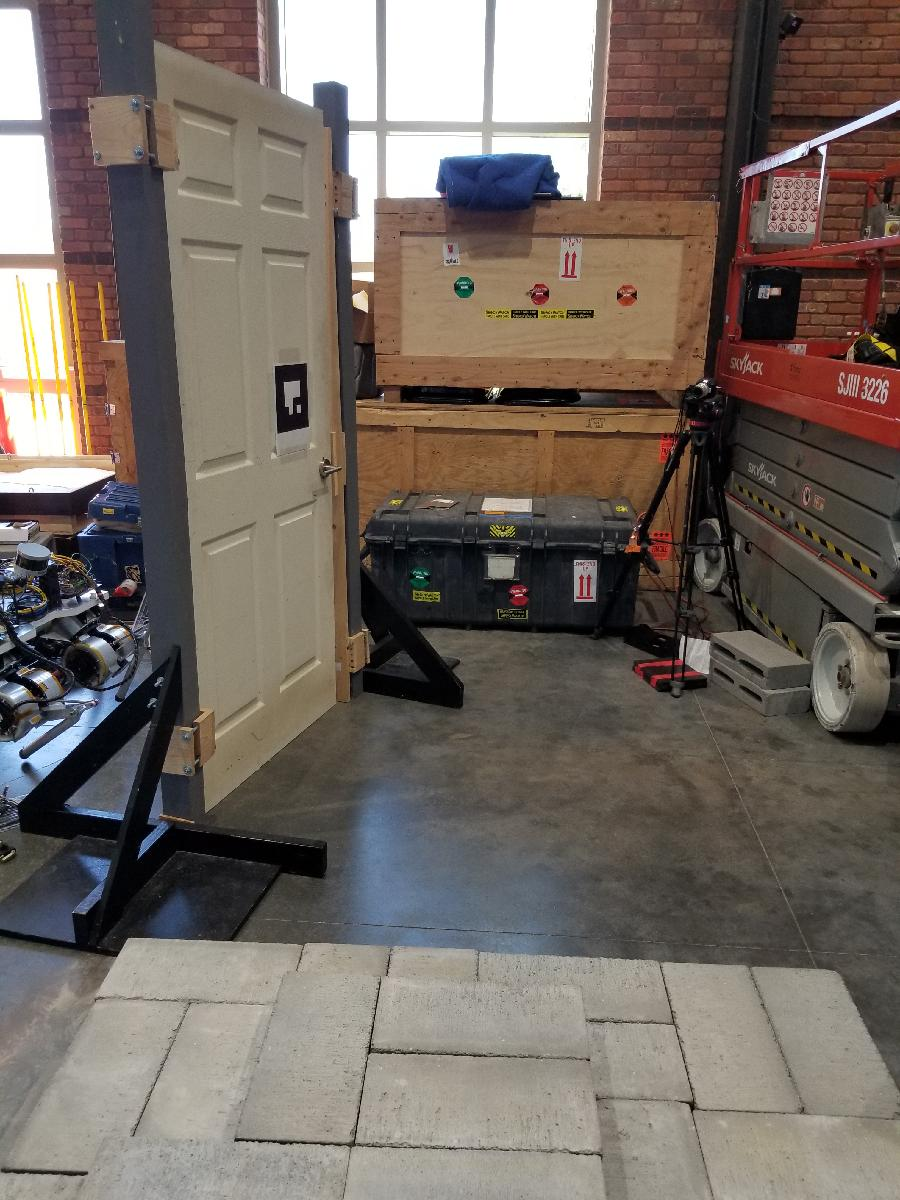door: (146, 34, 347, 819)
doorHandle: (319, 461, 345, 488)
